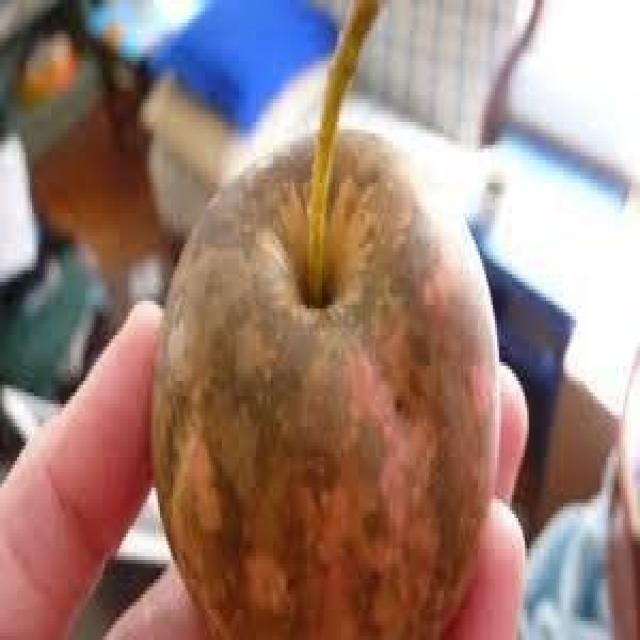maca: (150, 122, 500, 636)
